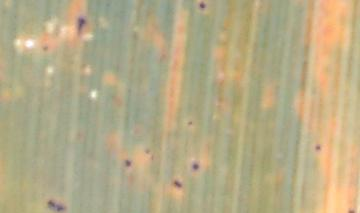tarspot: (47, 200, 66, 213), (77, 15, 85, 35), (171, 178, 182, 188), (123, 159, 133, 169), (198, 2, 208, 11), (192, 163, 201, 172), (42, 43, 50, 53), (186, 119, 194, 126), (145, 148, 152, 155), (314, 144, 321, 151), (348, 208, 356, 213)
